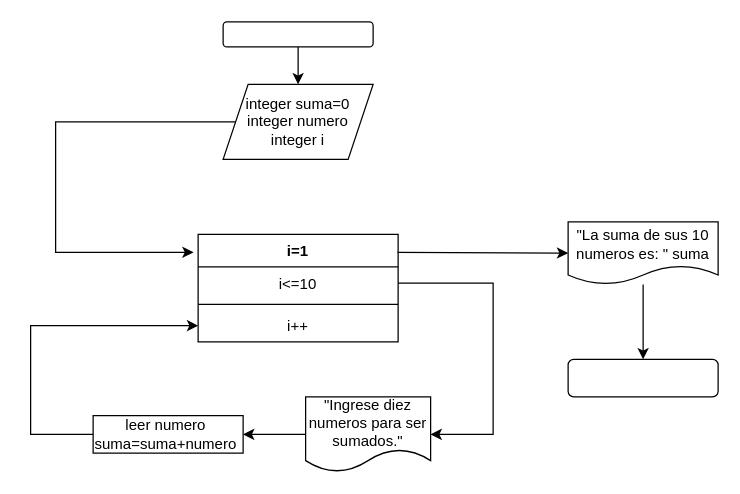
The diagram is 740 pixels wide and 494 high, and some of its shapes have lost their labels. Here are the shapes that lost their labels. From the top down, the centre of each, then its label:
At [297,34]: "Inicio".
At [642,377]: "Fin".
